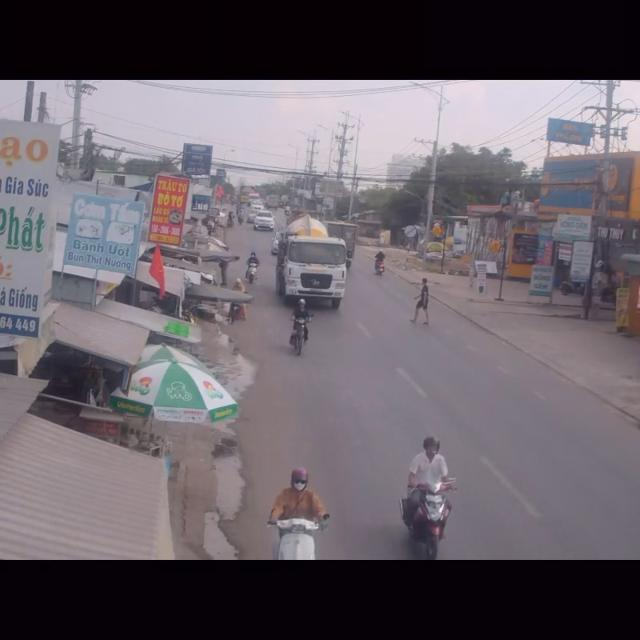motorbike: (400, 434, 457, 562), (271, 470, 328, 558), (287, 296, 310, 358), (371, 248, 385, 282)
truck: (275, 217, 347, 310)
